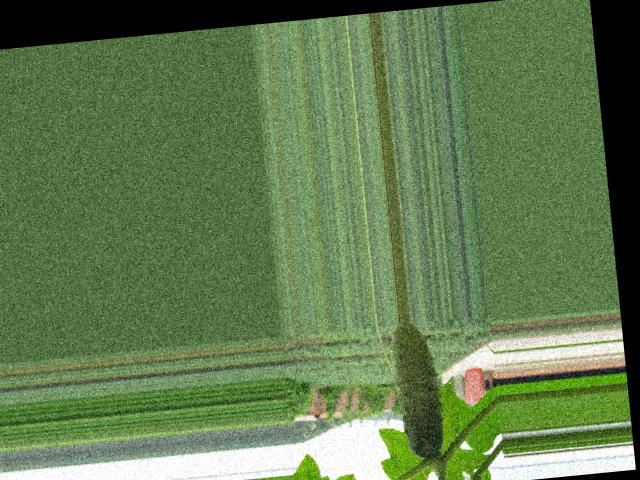cucumber: (388, 319, 445, 459)
